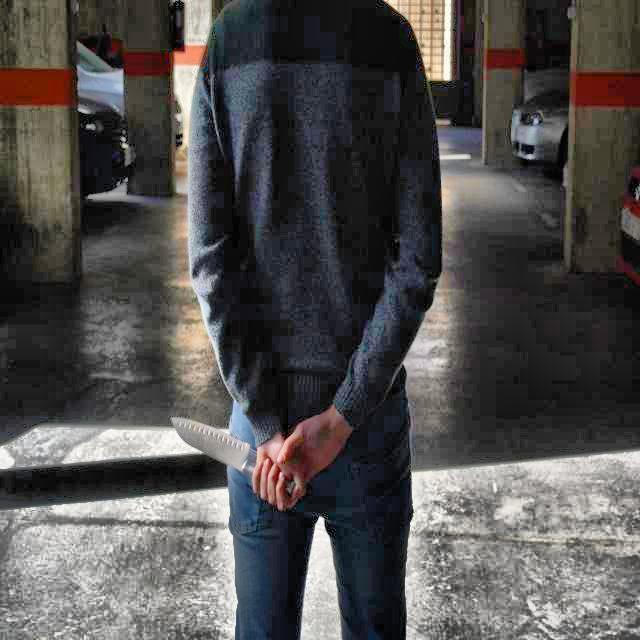knife: (170, 415, 298, 504)
